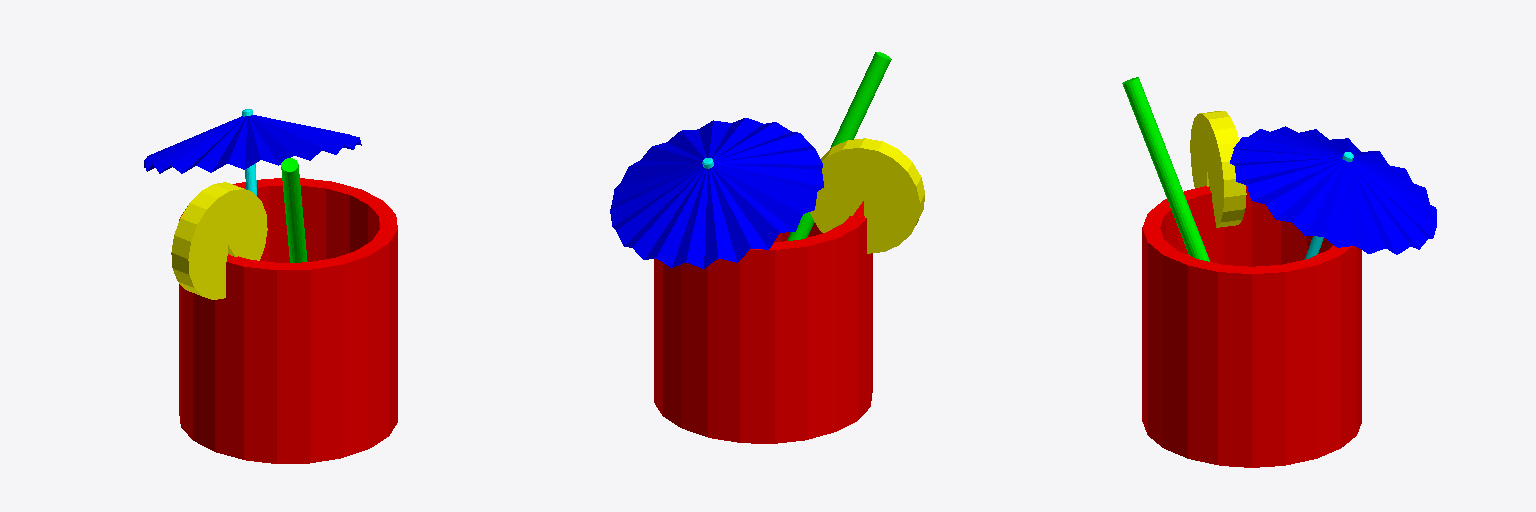
The model's file is GlassOBJ.obj.
3 views of the same model, side by side, from view 1: azimuth 30°, elevation 25°; view 2: azimuth 150°, elevation 25°; view 3: azimuth 270°, elevation 25° (orthographic).
Visible parts, largest first — view 1: Cup, Fruit, UmbrellaShaft UmbrellaShade, Straw; view 2: Cup, UmbrellaShaft UmbrellaShade, Fruit, Straw; view 3: Cup, UmbrellaShaft UmbrellaShade, Fruit, Straw.
Boxes of the visible parts, box(x1,y1,x2,y2) form: Cup: box(179, 178, 397, 463); Fruit: box(171, 182, 267, 299); UmbrellaShaft UmbrellaShade: box(144, 115, 361, 173); Straw: box(281, 158, 307, 262); Cup: box(654, 201, 872, 443); UmbrellaShaft UmbrellaShade: box(610, 118, 823, 268); Fruit: box(810, 138, 924, 253); Straw: box(787, 52, 891, 240); Cup: box(1142, 186, 1361, 467); UmbrellaShaft UmbrellaShade: box(1230, 126, 1436, 254); Fruit: box(1190, 111, 1246, 227); Straw: box(1122, 77, 1209, 261).
Size of the model in its own units: 2.48 by 3.19 by 2.87.